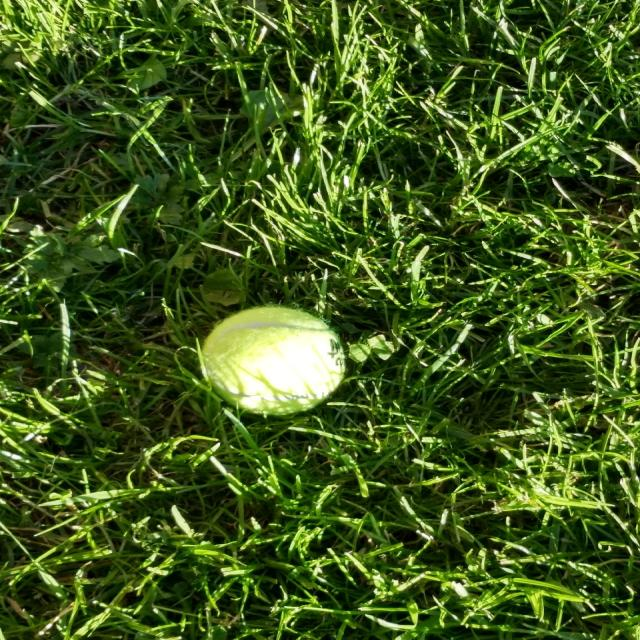Tennis-Ball: (202, 304, 352, 415)
